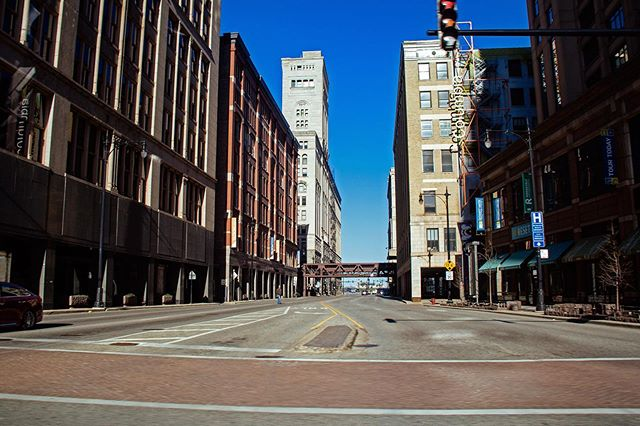building: (1, 1, 211, 300), (497, 1, 640, 233), (398, 42, 532, 285), (221, 47, 297, 292), (291, 68, 347, 290)
sky: (330, 1, 401, 260)
street: (1, 297, 640, 426)
